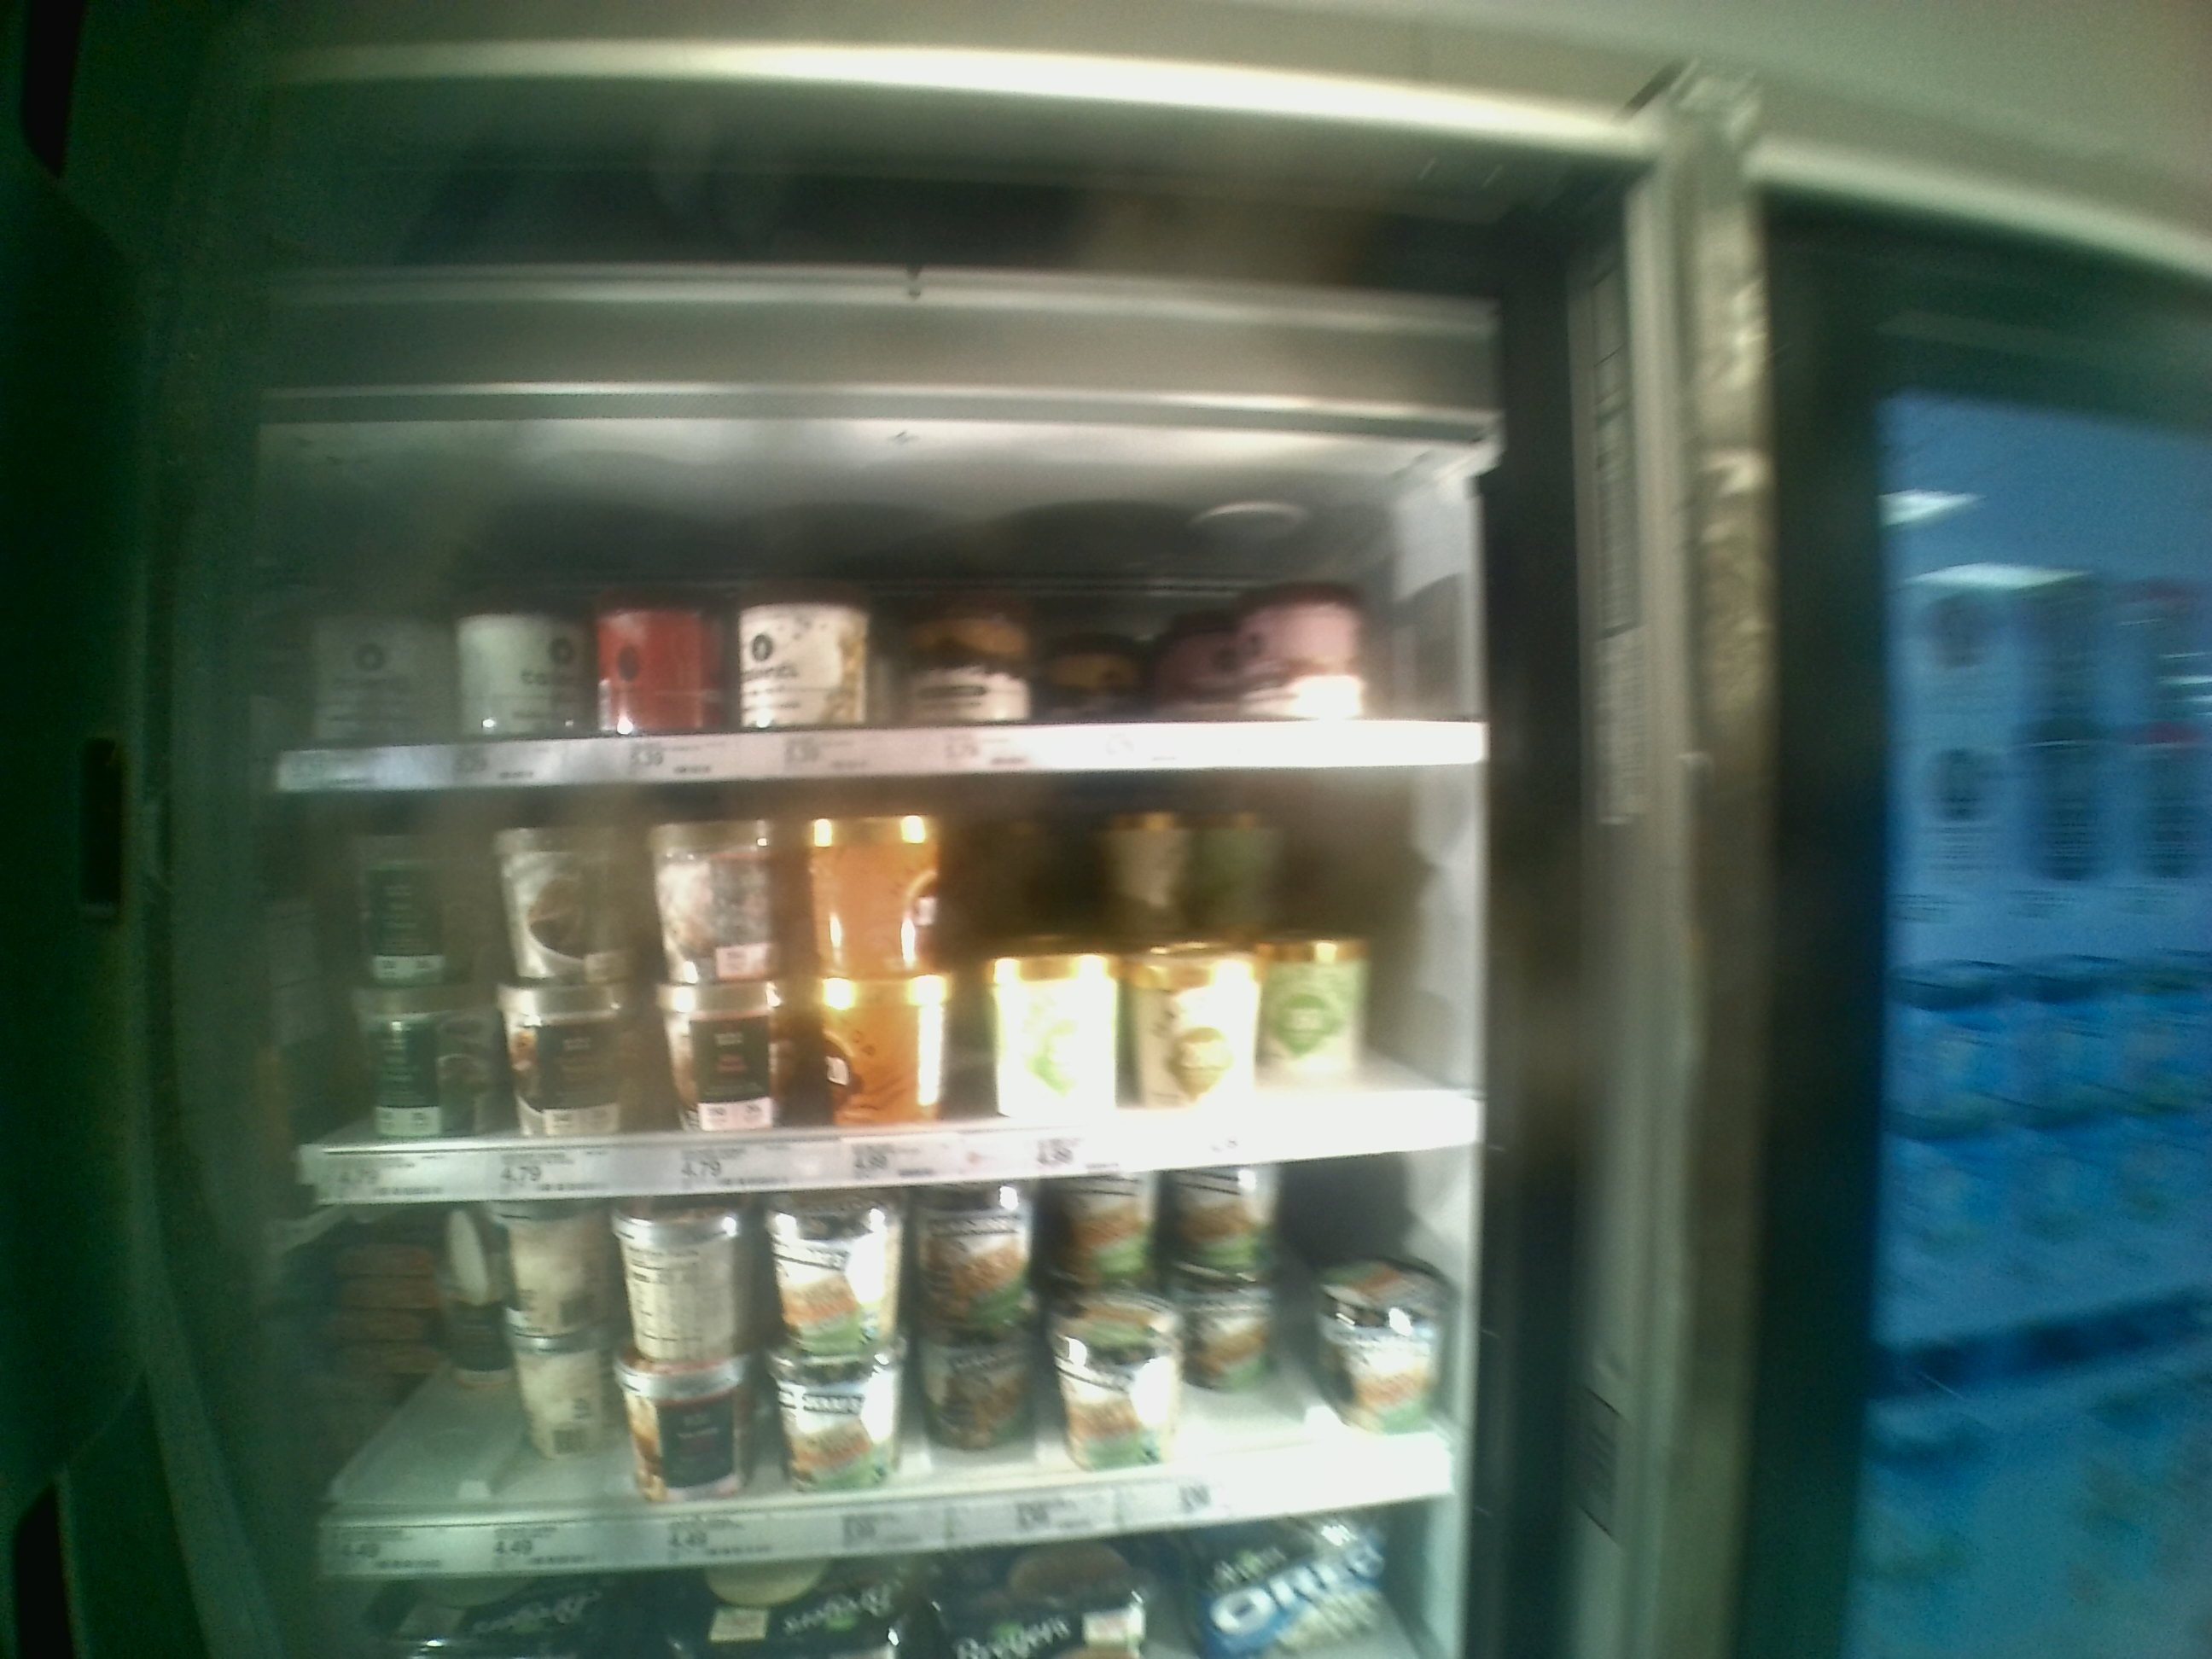ice-cream-shelf: (261, 777, 1501, 1180), (263, 453, 1493, 777)
